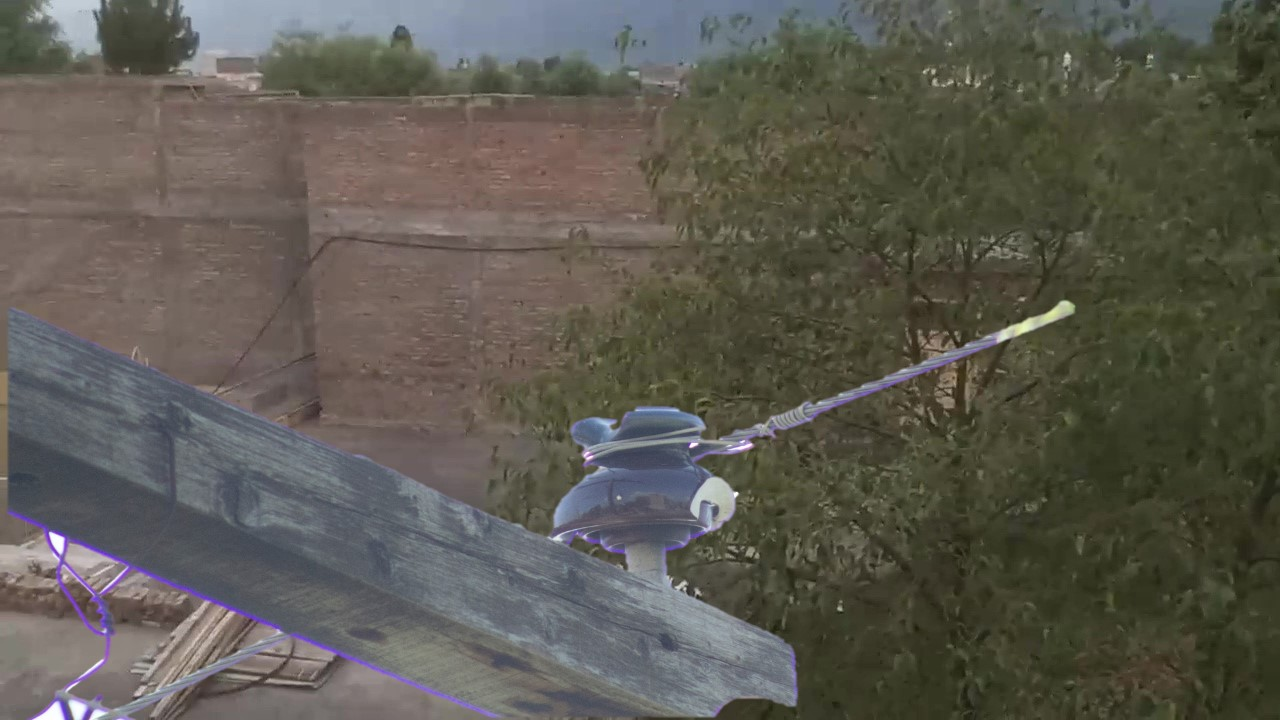defect_pin: (549, 394, 751, 549)
